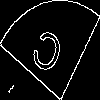C: (25, 25, 66, 85)
